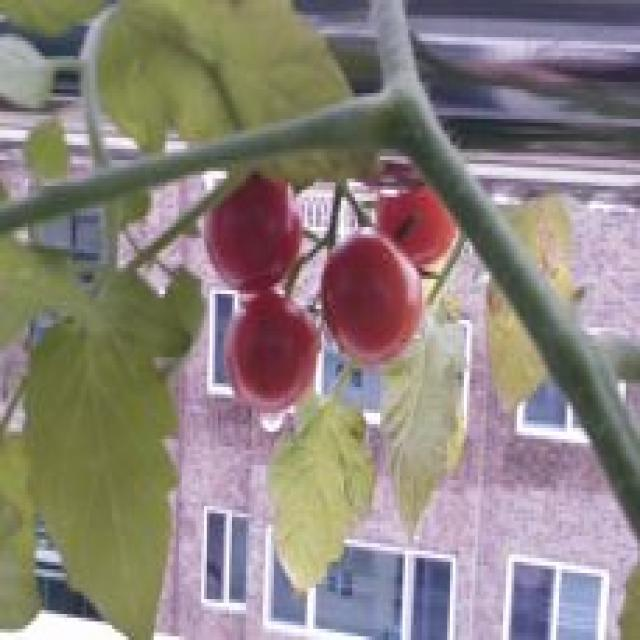level 5: (357, 168, 472, 272)
level 6: (296, 229, 432, 382), (190, 167, 313, 290), (223, 294, 319, 425)
